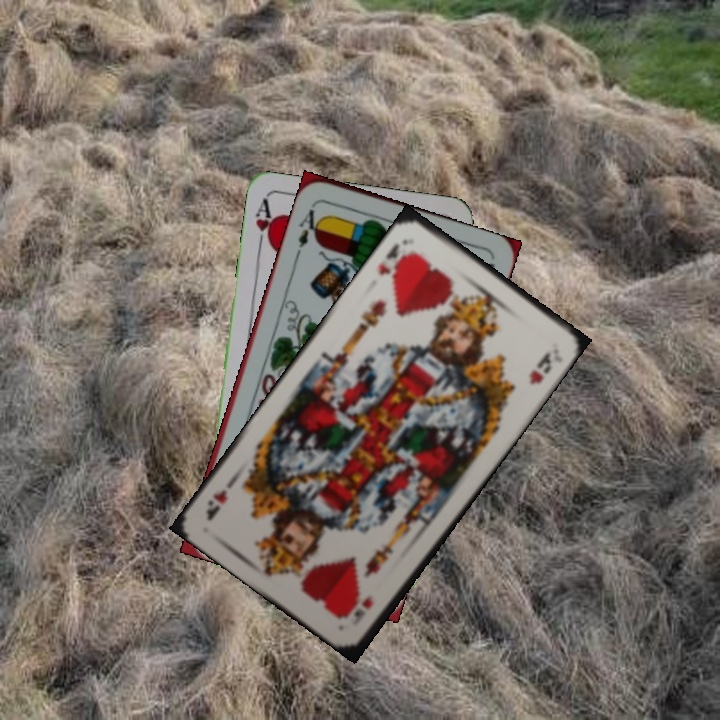EA: (292, 200, 325, 258)
HA: (251, 196, 278, 255)
HK: (374, 235, 415, 280), (349, 591, 376, 628)
